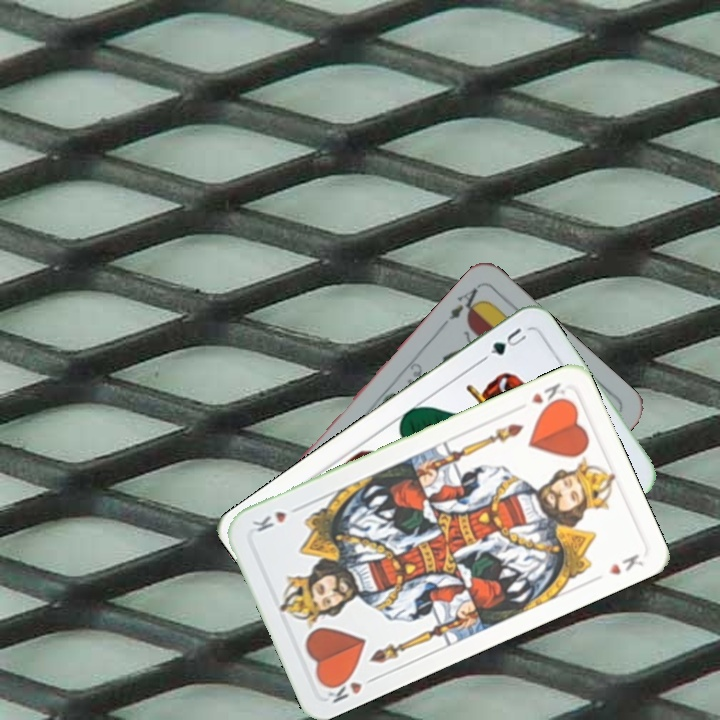EA: (437, 281, 485, 329)
GU: (478, 323, 529, 363)
HK: (319, 670, 380, 706), (527, 379, 572, 413)
